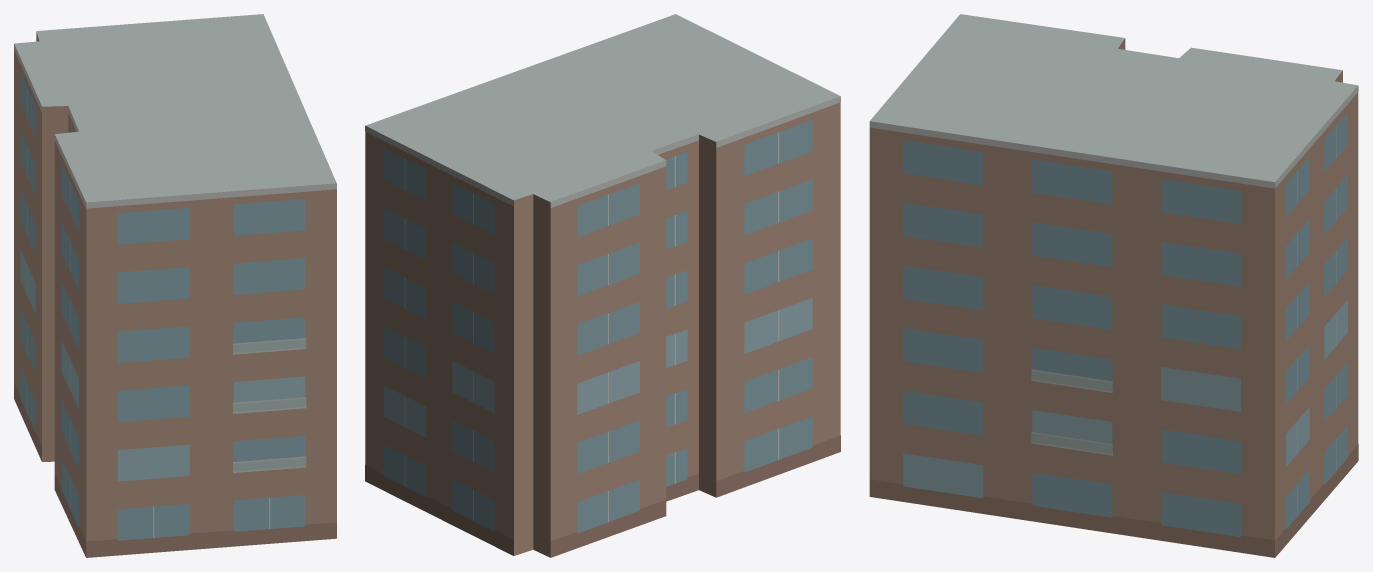
The model's file is survey-upis-32961430.glb.
3 renders of one model, left to right at view 1: azimuth 30°, elevation 25°; view 2: azimuth 150°, elevation 25°; view 3: azimuth 270°, elevation 25°, orthographic. The views are drawn at different scales.
Parts seen in each view (by area): view 1: survey-upis-32961430.tmp; view 2: survey-upis-32961430.tmp; view 3: survey-upis-32961430.tmp.
Part boxes in pixels (x1,y1,x2,y2): survey-upis-32961430.tmp: (14, 14, 336, 557); survey-upis-32961430.tmp: (365, 14, 840, 557); survey-upis-32961430.tmp: (869, 14, 1358, 557).
Size of the model in its own units: 13.84 by 14.4 by 17.
